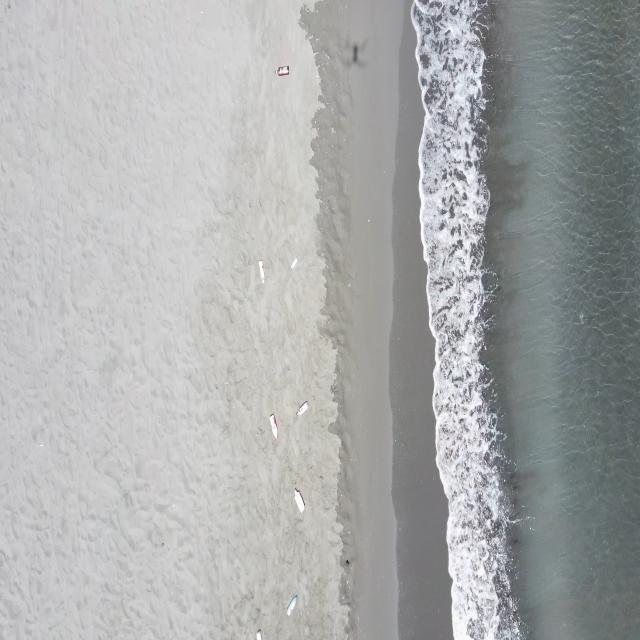plastic-bottle: (294, 489, 304, 513), (296, 401, 310, 418), (270, 414, 278, 441), (274, 66, 292, 78), (288, 595, 298, 615), (258, 261, 266, 284), (290, 256, 299, 270), (255, 629, 264, 640)
